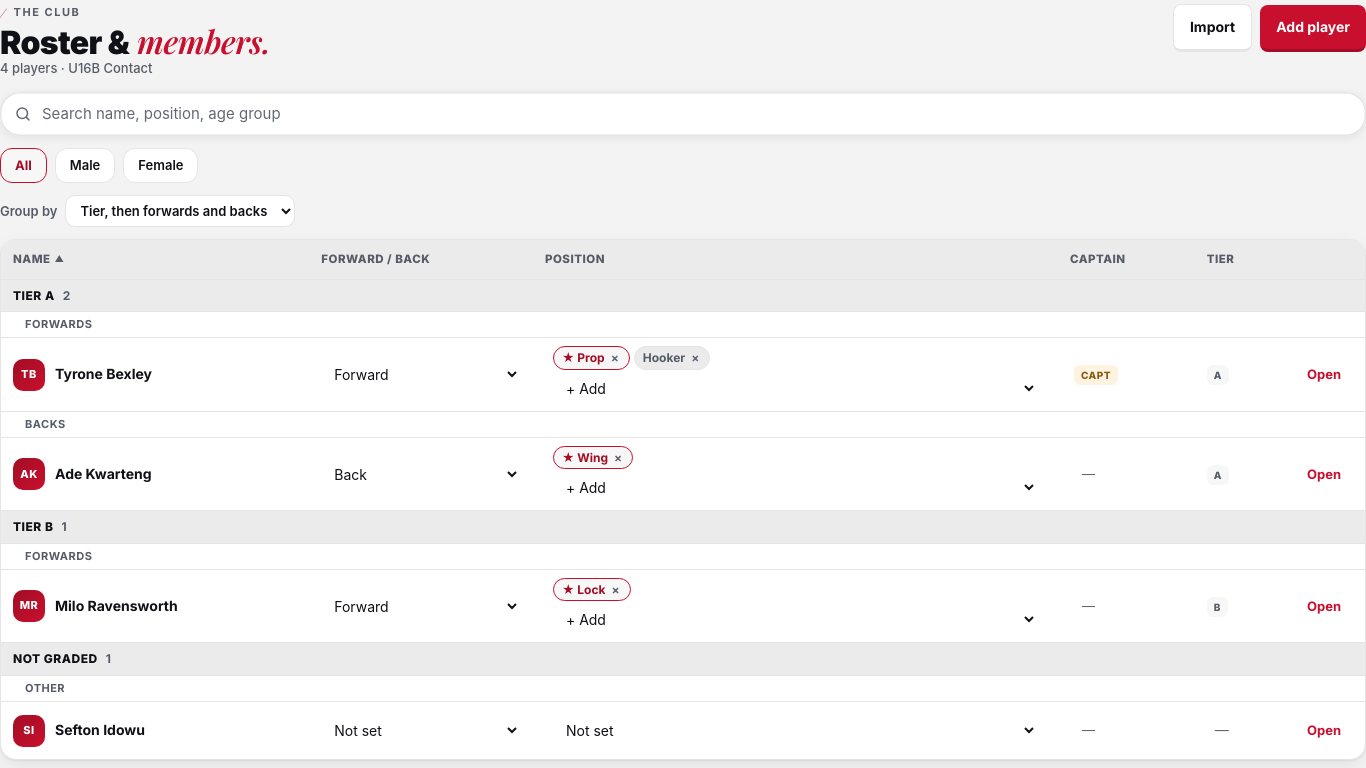
Left the squad › a leaver is excluded from search results
Type "Rafiq" into the search field at point(697, 114), box [42,102,1352,126]
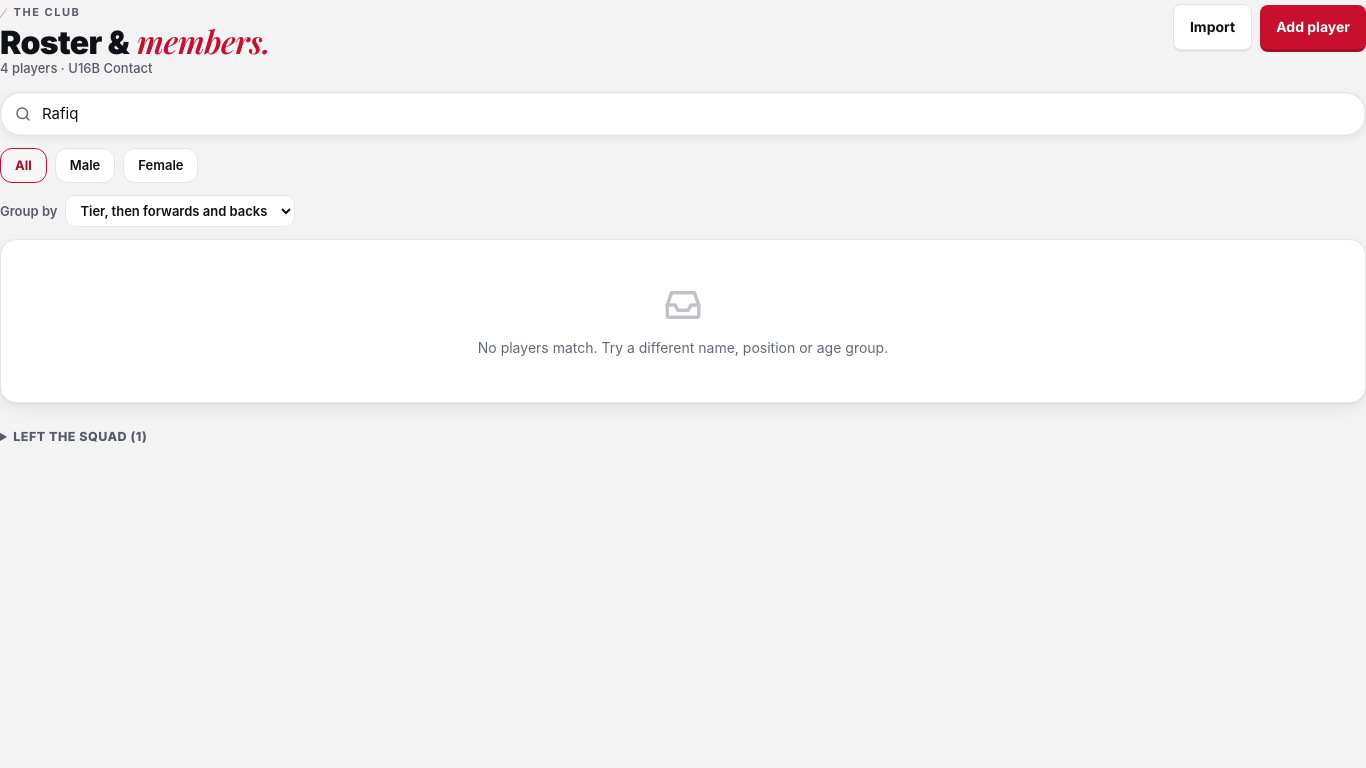
Check: the text "No players match" is shown, box [478,339,888,356]
